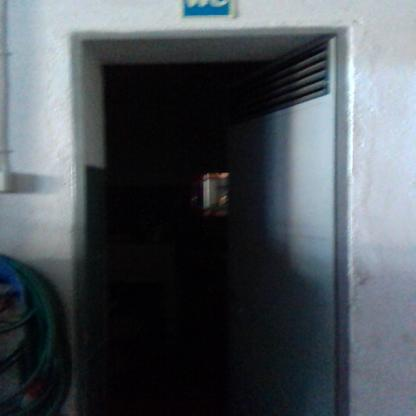open: (58, 14, 359, 416)
